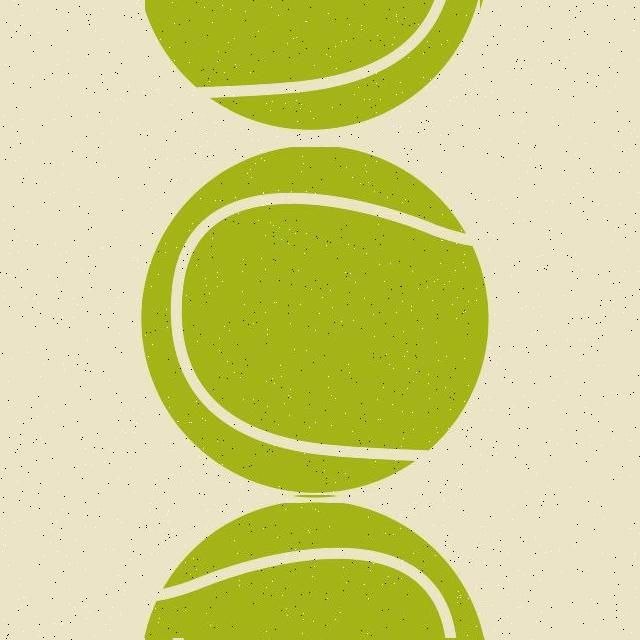tennis ball: (140, 148, 491, 497), (144, 504, 485, 640), (145, 0, 480, 131)
